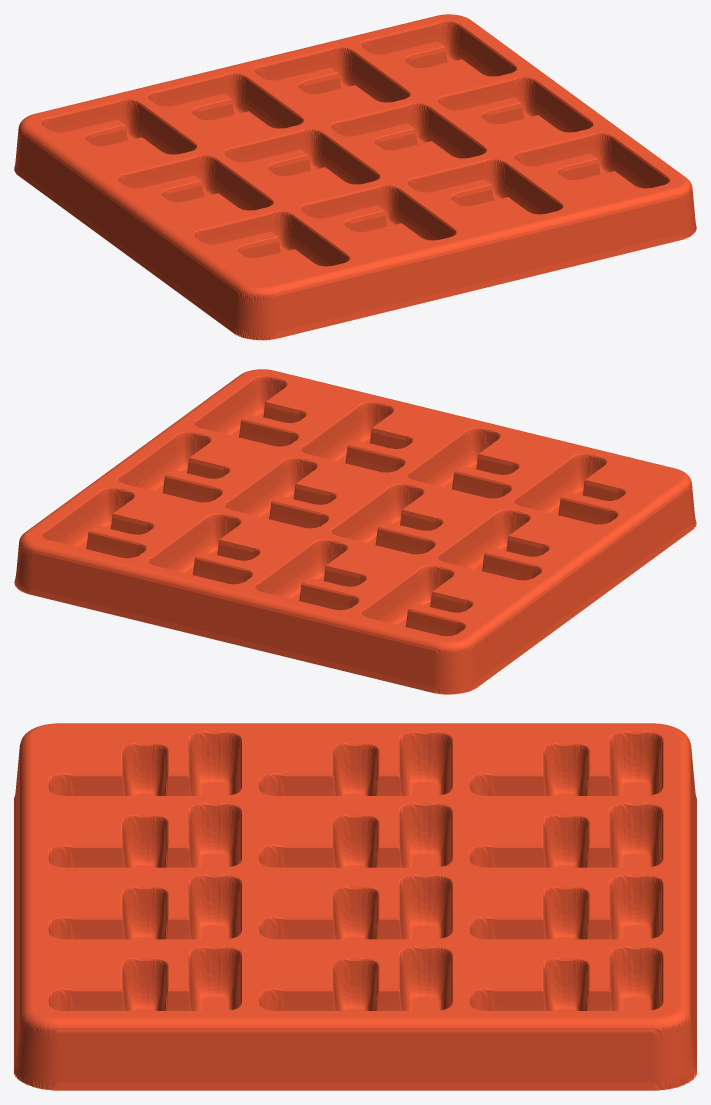
File: mold.glb
3 views of the same model, one above another, from view 1: azimuth 30°, elevation 25°; view 2: azimuth 150°, elevation 25°; view 3: azimuth 270°, elevation 25° (orthographic). The views are drawn at different scales.
Parts seen in each view (by area): view 1: geometry_0; view 2: geometry_0; view 3: geometry_0.
Part boxes in pixels (bbox=[...]): geometry_0: bbox=[14, 14, 696, 340]; geometry_0: bbox=[14, 369, 696, 694]; geometry_0: bbox=[14, 723, 696, 1090].
Bounding box in the file's own units: 0.1468 × 0.0145 × 0.1374.
